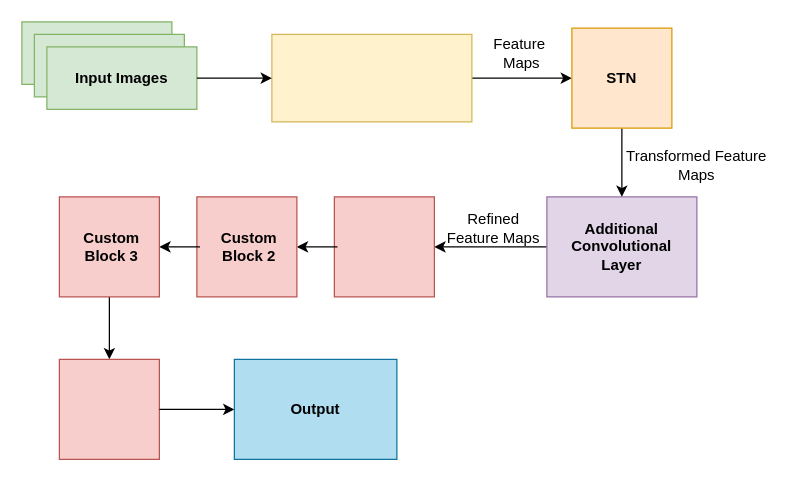
The diagram is 794 pixels wide and 481 high, and some of its shapes have lost their labels. Each missing label, with the box of its shape:
Custom Block 1: (333, 196, 434, 297)
Custom Block 4: (58, 358, 159, 459)
YOLOv8 Backbone: (271, 33, 472, 122)
